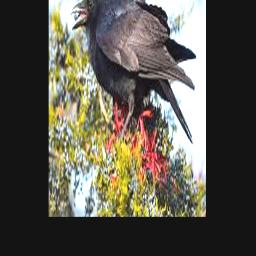Crow: (70, 0, 196, 146)
